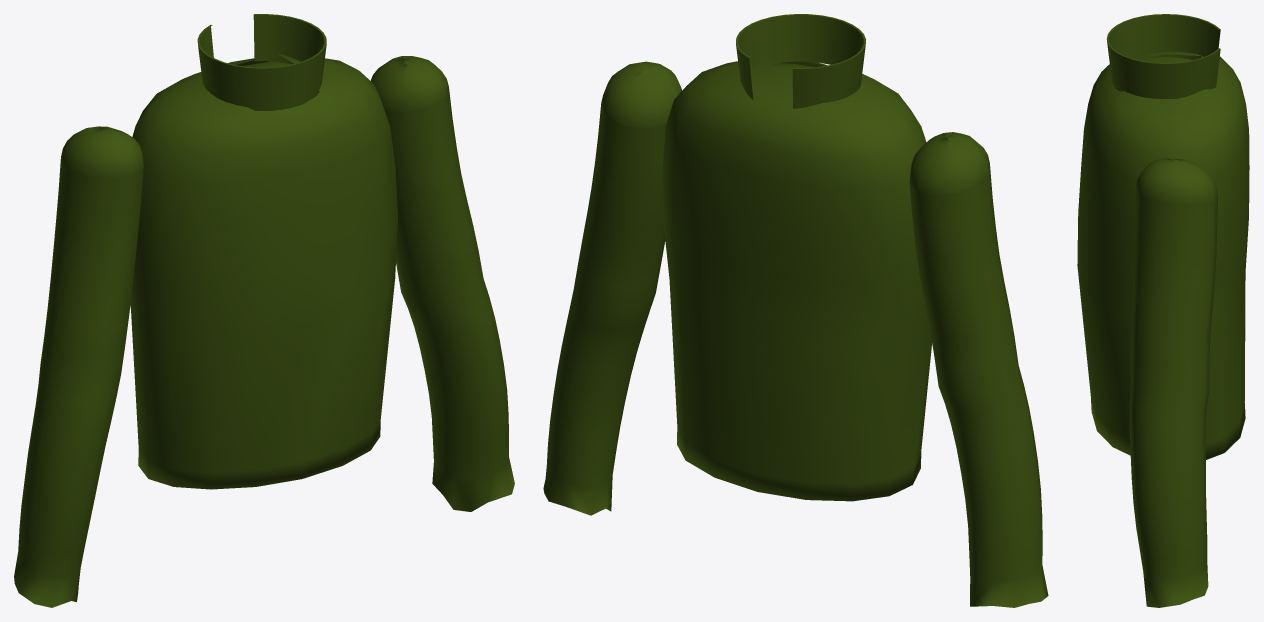
Rendered from qzipfinalfinal.fbx.
The picture shows the model from 3 angles, left to right: view 1: azimuth 30°, elevation 25°; view 2: azimuth 150°, elevation 25°; view 3: azimuth 270°, elevation 25°; orthographic projection. The views are drawn at different scales.
Visible parts, largest first — view 1: torso.002, armR.002, armL.002; view 2: torso.002, armR.002, armL.002; view 3: torso.002, armL.002.
Boxes of the visible parts, <box> form: torso.002: <box>130,14,397,489</box>; armR.002: <box>14,126,143,607</box>; armL.002: <box>370,56,514,511</box>; torso.002: <box>662,14,931,501</box>; armR.002: <box>909,132,1048,607</box>; armL.002: <box>543,61,682,515</box>; torso.002: <box>1077,14,1249,459</box>; armL.002: <box>1129,158,1217,607</box>.
Size of the model in its own units: 287 by 288 by 95.31.
